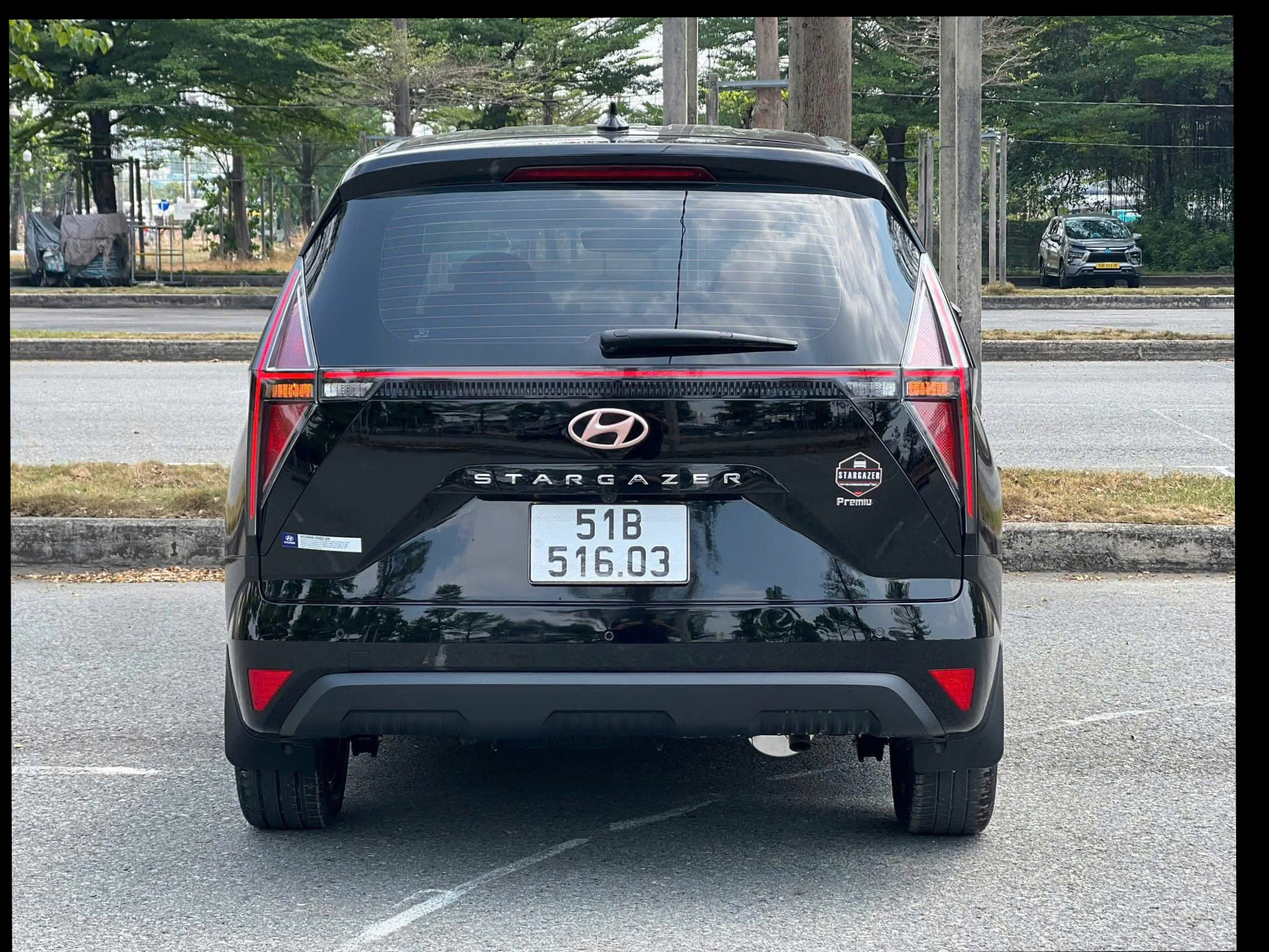Bien-so: (533, 494, 714, 583)
